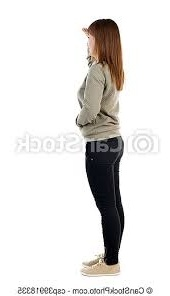not_fallen: (58, 11, 152, 281)
